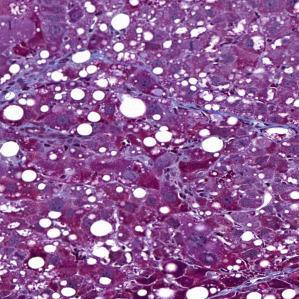fibrosis: (85, 48, 121, 74)
